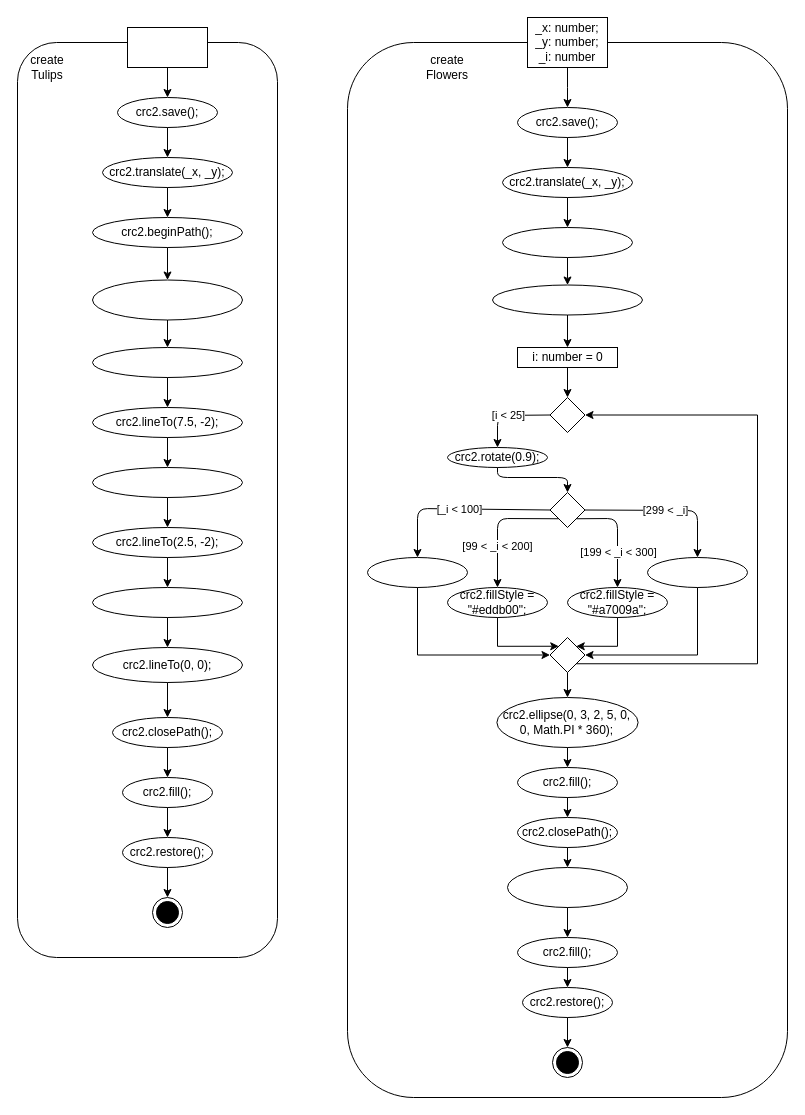
The diagram is 805 pixels wide and 1115 high, and some of its shapes have lost their labels. The box of each missing label's shape, as (x1, y1, x2, y2) in pixels:
_x: number; _y: number;: (126, 26, 208, 68)
crc2.arc(0, 0, 3, 0, Math.PI * 360);: (506, 866, 628, 908)
crc2.beginPath;: (502, 226, 632, 258)
crc2.fillRect(-1.5, 0, 3, 15): (492, 284, 642, 315)
crc2.fillStyle = "#ac0000";: (366, 556, 468, 588)
crc2.fillStyle = "#ff0077";: (646, 556, 748, 588)
crc2.lineTo(0, -10);: (92, 586, 242, 618)
crc2.lineTo(10, -10);: (92, 346, 242, 378)
crc2.lineTo(5, -10);: (92, 466, 242, 498)
crc2.quadraticCurveTo (5, 5, 10, 0);: (92, 279, 242, 320)
